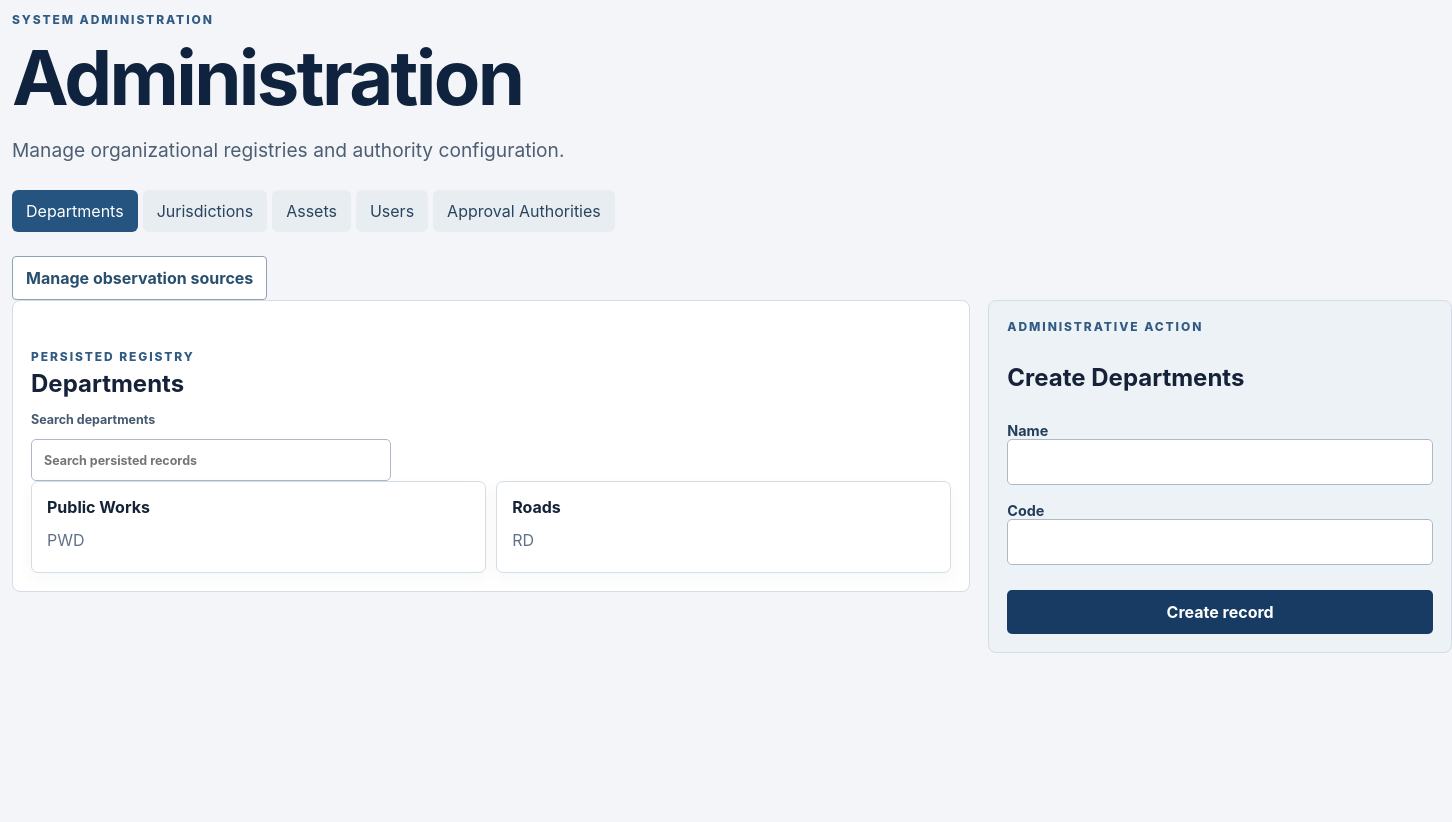
Administration › limits jurisdiction choices to the selected department
Check: the text "Public Works" is shown, box [47,497,150,517]
Click the button "Assets" at (312, 211), box [272,190,351,232]
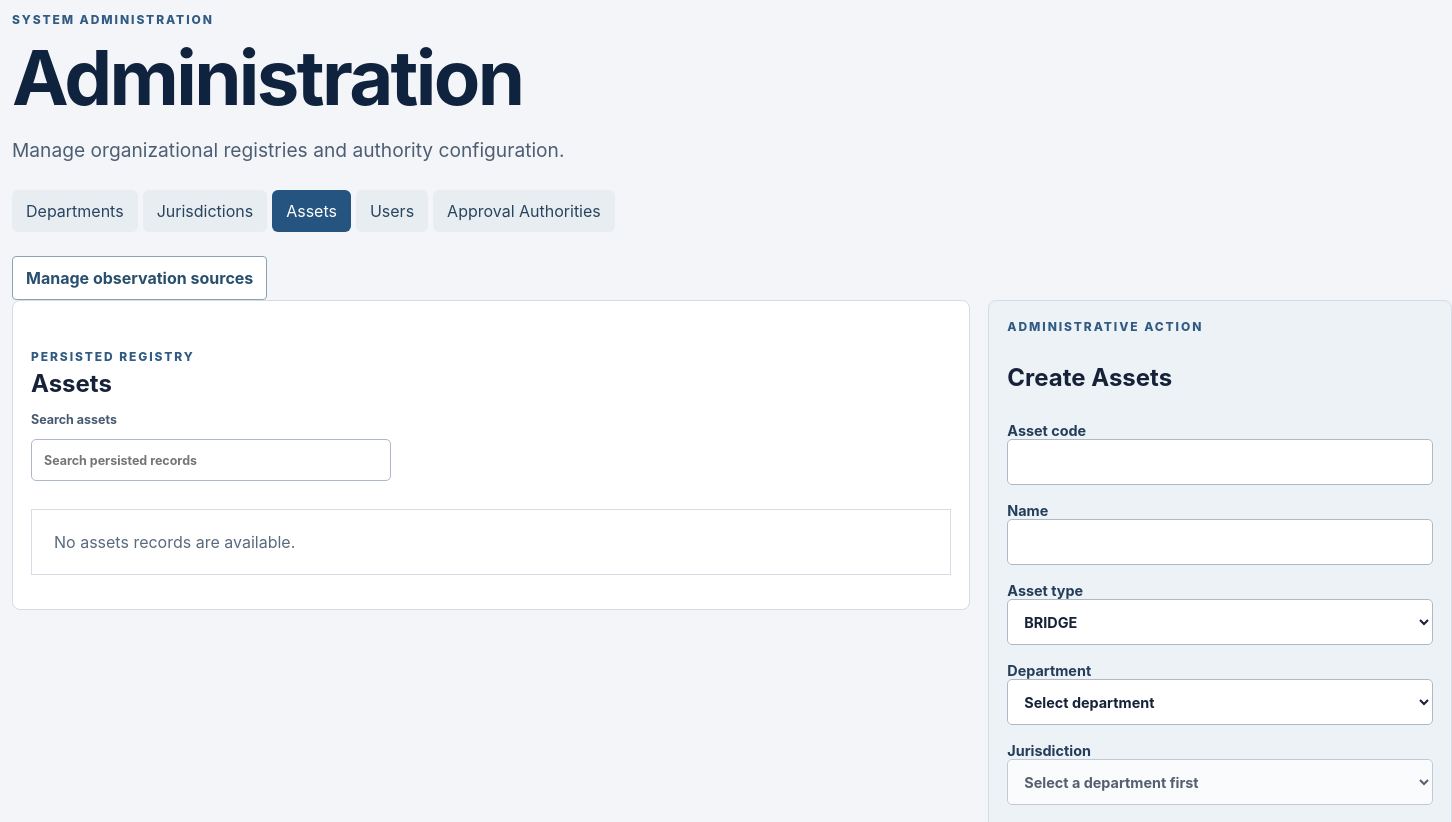
Check: the dropdown labelled "Jurisdiction" is disabled, box [1007,759,1433,805]
Select "Public Works (PWD)" in the dropdown labelled "Department" at (1220, 702), box [1007,679,1433,725]
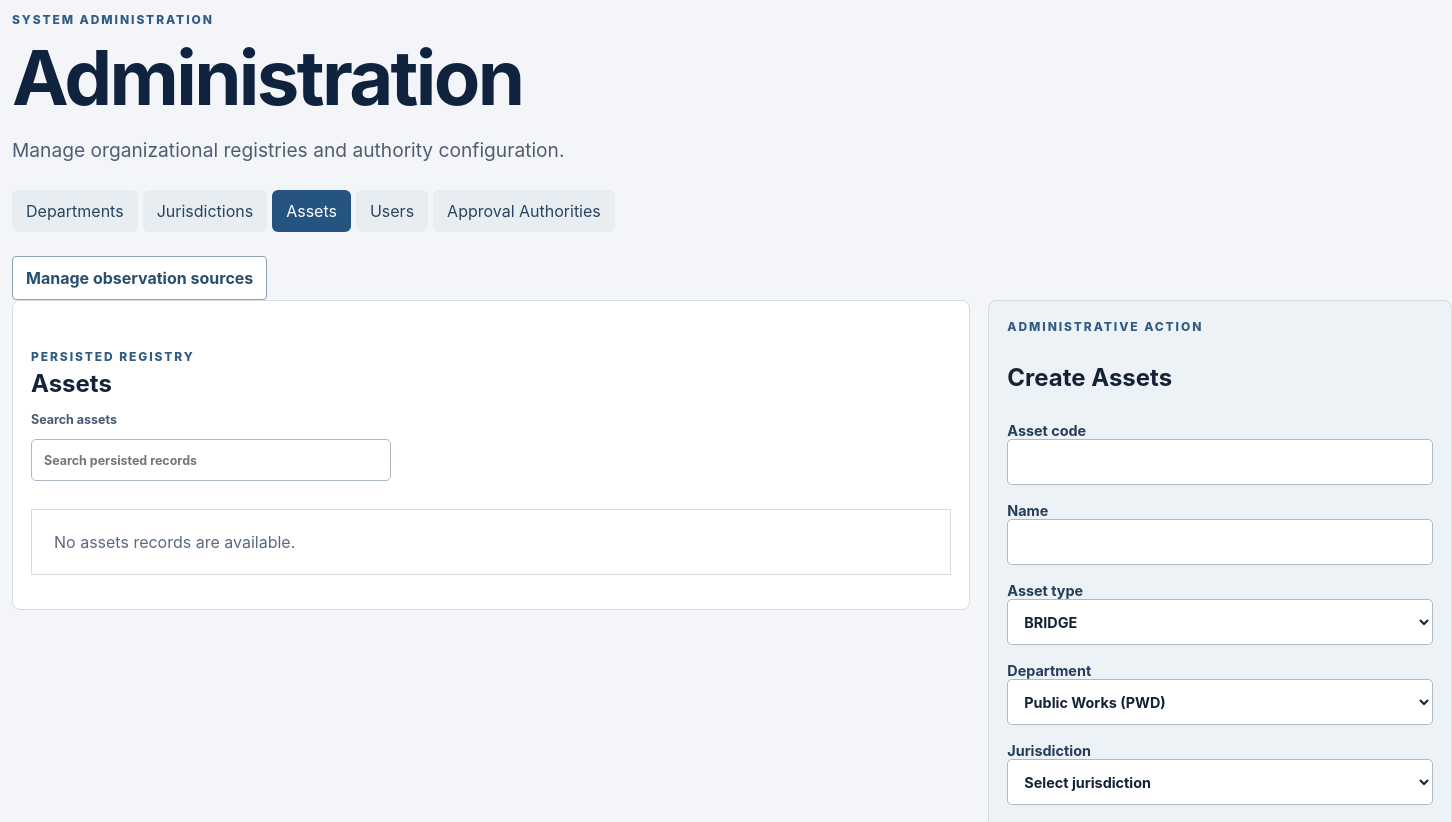
Check: the dropdown labelled "Jurisdiction" is enabled, box [1007,759,1433,805]
